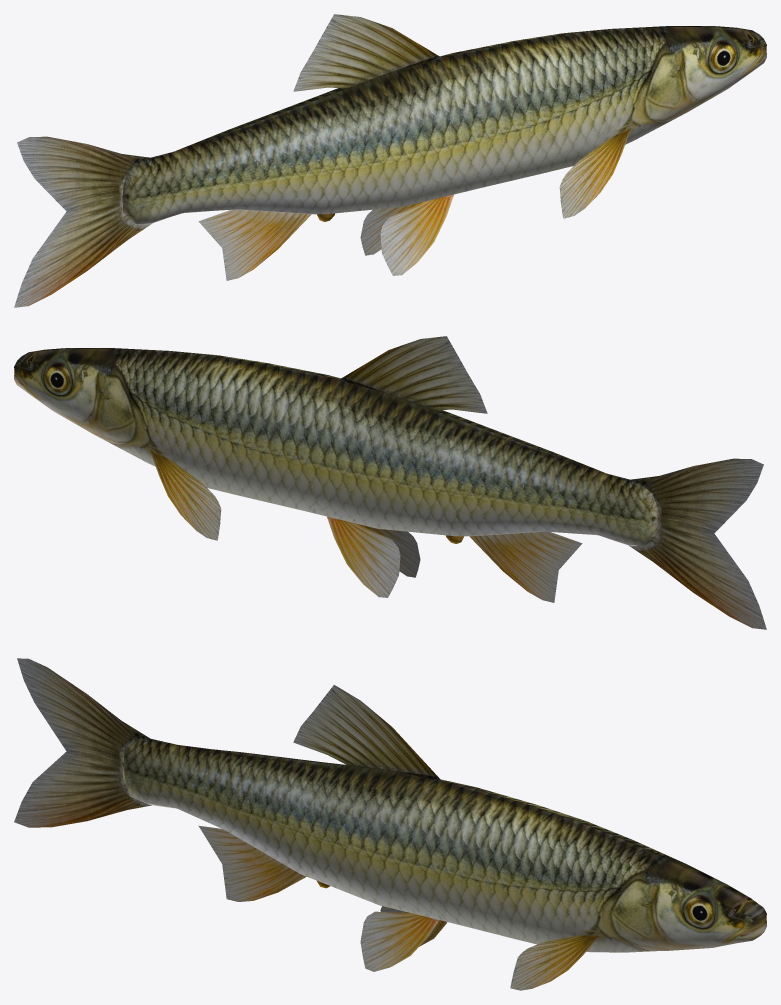
File: Gudgeon.glb
3 views of the same model, one above another, from view 1: azimuth 30°, elevation 25°; view 2: azimuth 150°, elevation 25°; view 3: azimuth 330°, elevation 25° (orthographic).
Visible parts, largest first — view 1: Gudgeon; view 2: Gudgeon; view 3: Gudgeon.
Part boxes in pixels (x1,y1,x2,y2): Gudgeon: [14, 14, 766, 307]; Gudgeon: [14, 336, 766, 629]; Gudgeon: [14, 658, 766, 990].
Size of the model in its own units: 2 by 0.6715 by 0.2468.
Materials: 1 (1 with a texture image).
